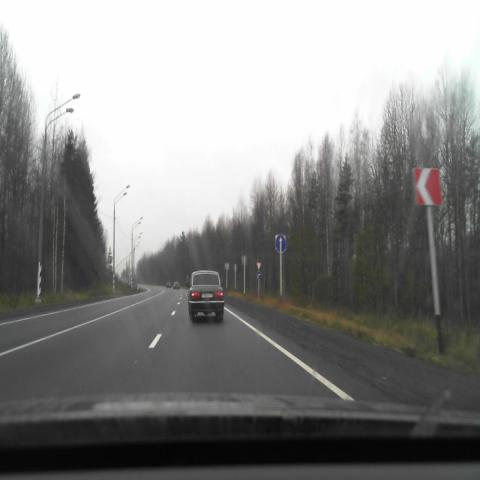4_1_1: (275, 234, 286, 254)
